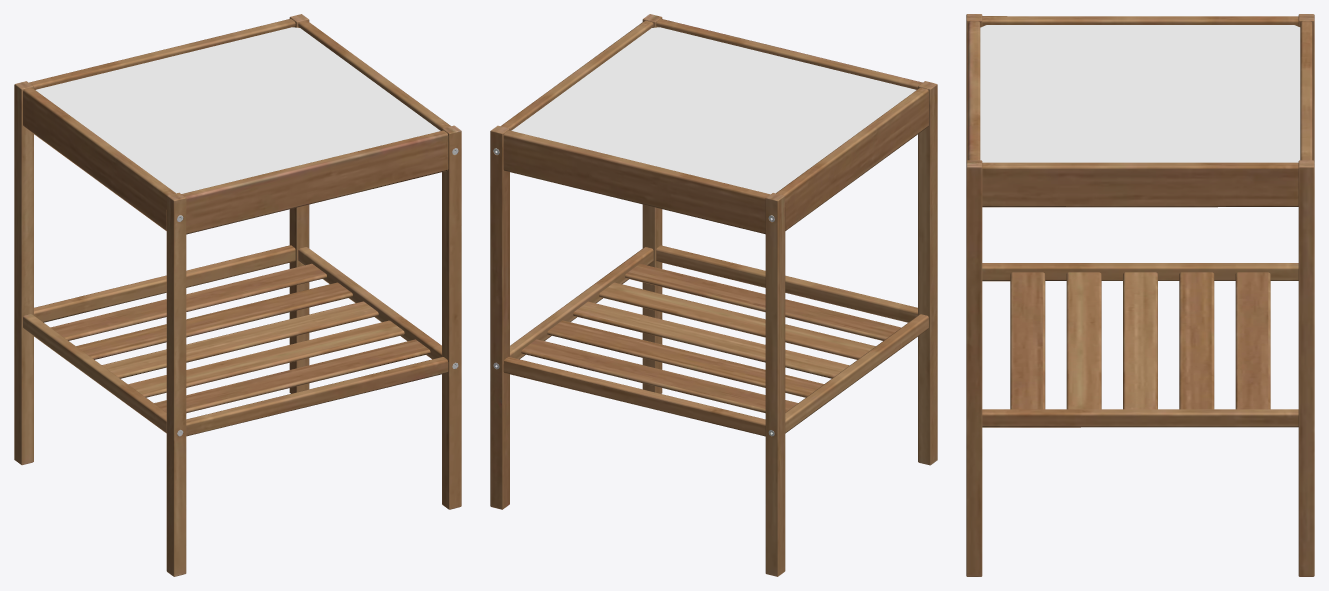
The picture shows the model from 3 angles, left to right: view 1: azimuth 30°, elevation 25°; view 2: azimuth 150°, elevation 25°; view 3: azimuth 270°, elevation 25°; orthographic projection. The views are drawn at different scales.
Parts seen in each view (by area): view 1: 1, 2; view 2: 1, 2; view 3: 1, 2.
Part boxes in pixels (<box>): 1: <box>14,14,461,576</box>; 2: <box>35,27,440,193</box>; 1: <box>490,14,937,576</box>; 2: <box>511,27,916,194</box>; 1: <box>966,14,1314,576</box>; 2: <box>980,25,1300,162</box>.
Size of the model in its own units: 0.36 by 0.45 by 0.346.
Materials: 2 (2 with a texture image).
